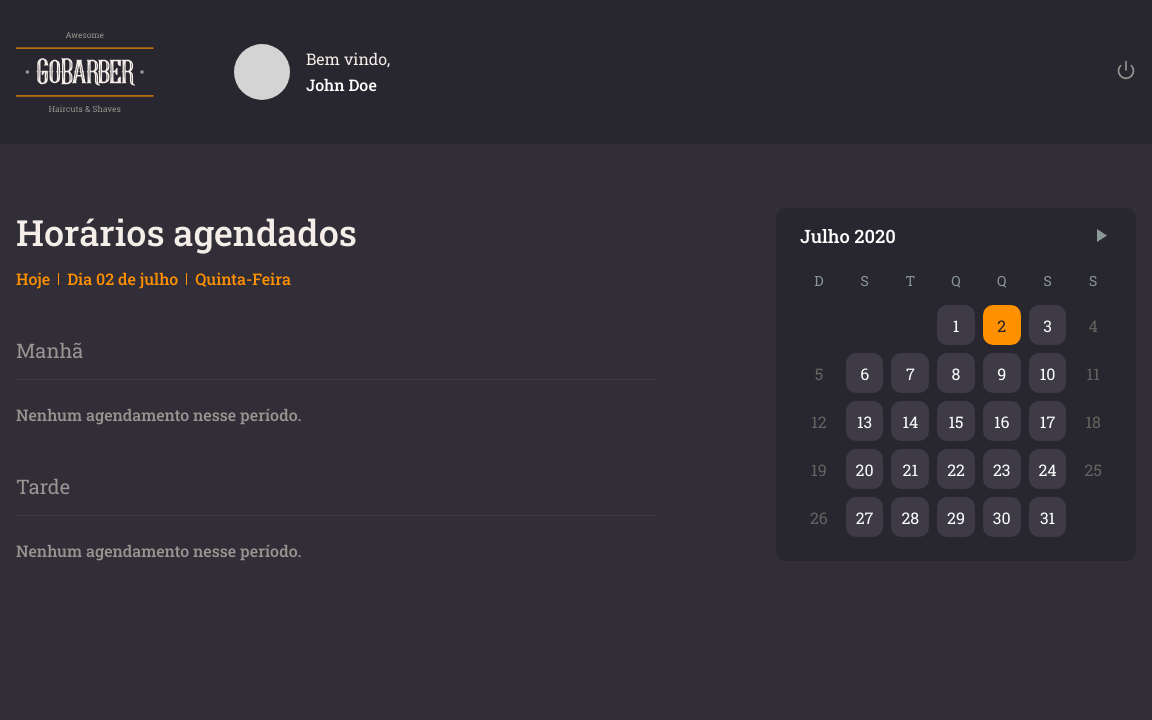
Test case: Dashboard Page › should not be able to render today if current date is different now
This screenshot has width=1152, height=720.
Click the text "3" at (1048, 325), box x1=1029 y1=305 x2=1066 y2=345
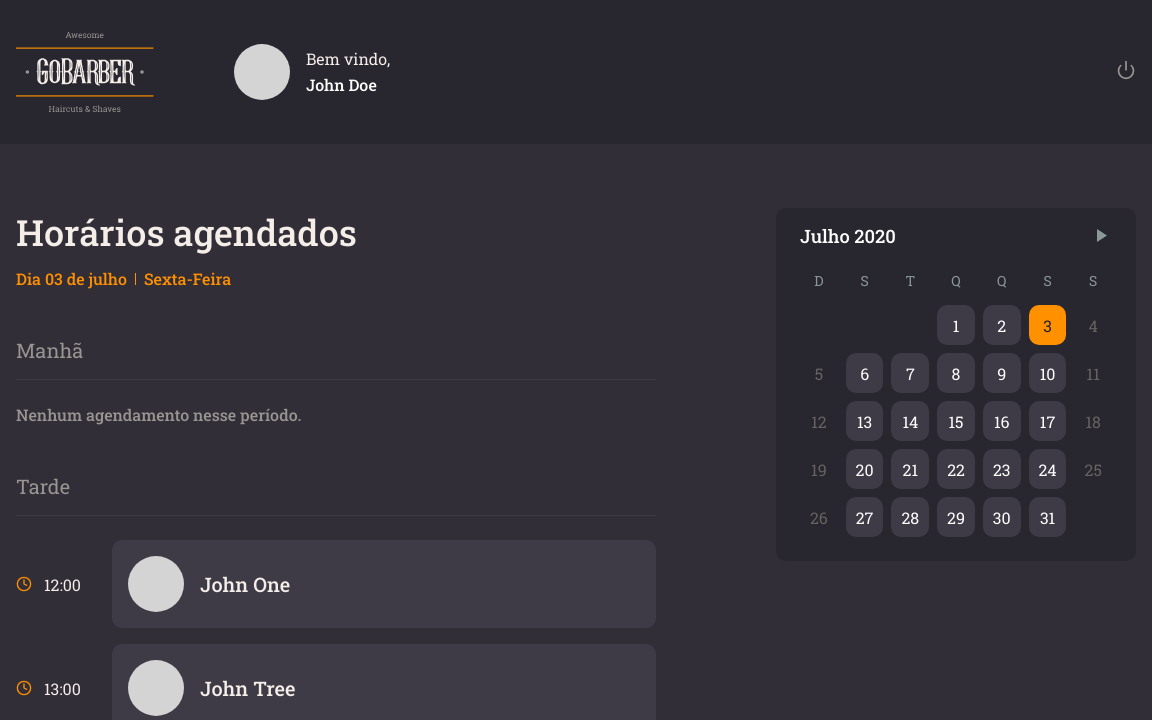
Expected: the text "Hoje" is gone
